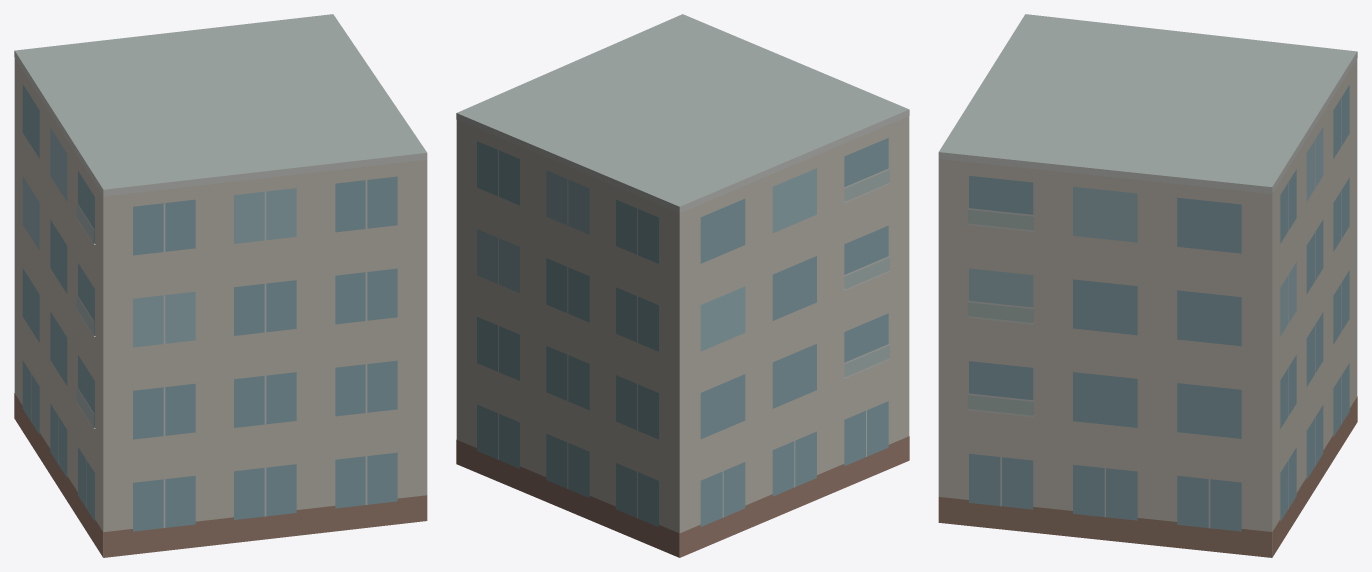
File: survey-upis-32713051.glb
The picture shows the model from 3 angles, left to right: view 1: azimuth 30°, elevation 25°; view 2: azimuth 150°, elevation 25°; view 3: azimuth 270°, elevation 25°; orthographic projection. The views are drawn at different scales.
Parts seen in each view (by area): view 1: survey-upis-32713051.tmp; view 2: survey-upis-32713051.tmp; view 3: survey-upis-32713051.tmp.
Boxes of the visible parts, <box> form: survey-upis-32713051.tmp: <box>14,14,427,557</box>; survey-upis-32713051.tmp: <box>456,14,909,557</box>; survey-upis-32713051.tmp: <box>938,14,1357,557</box>.
Bounding box in the file's own units: 13.24 × 13.2 × 13.52.
